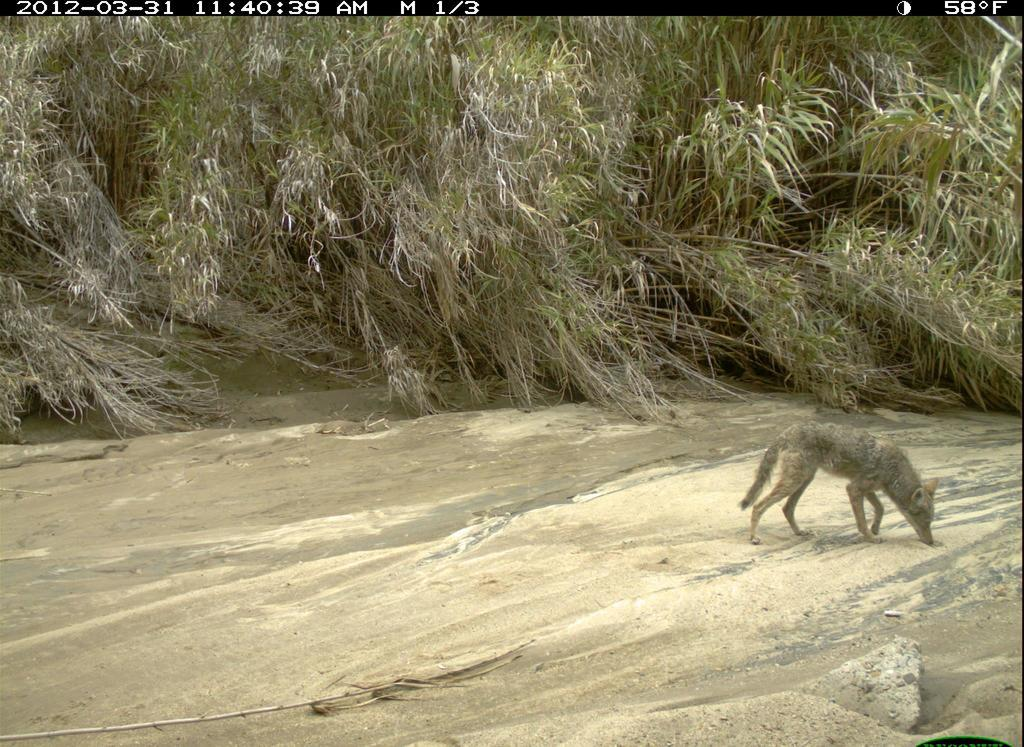coyote: (728, 392, 959, 580)
